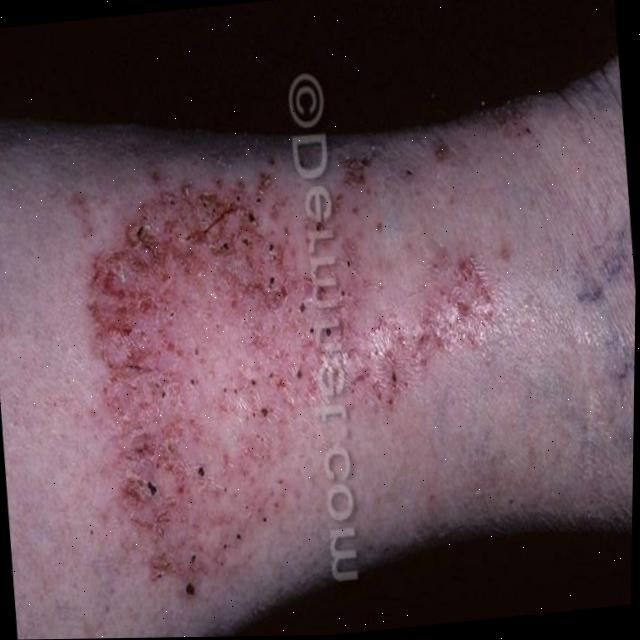Eczema: (27, 139, 429, 578)
